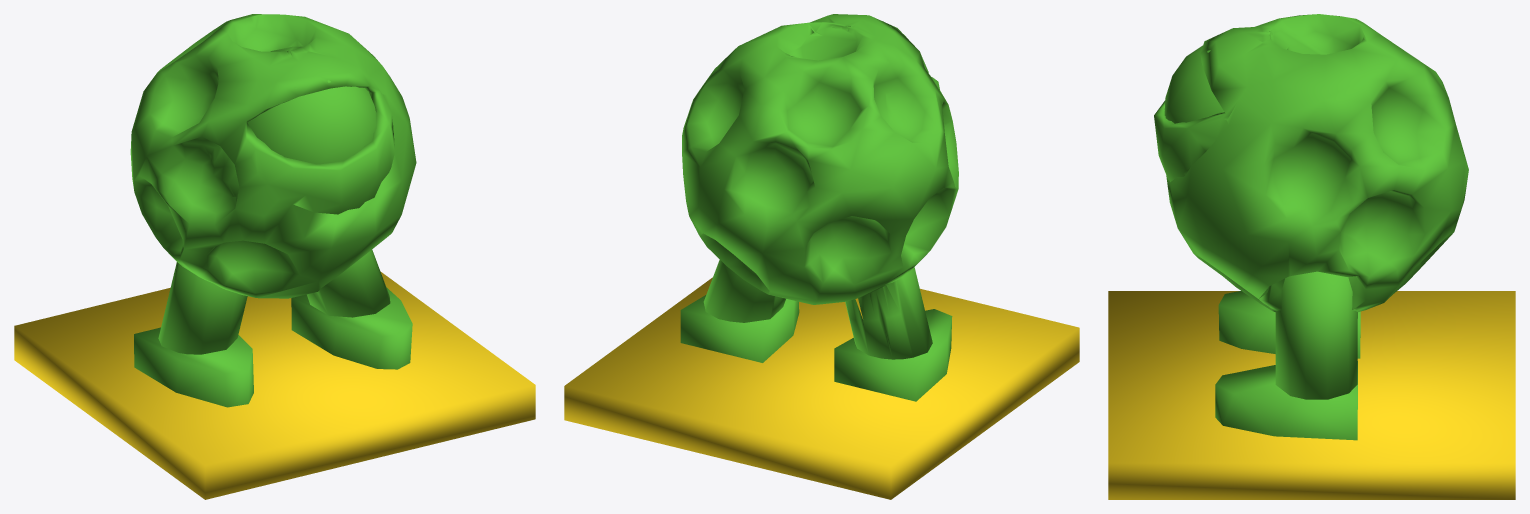
The model's file is adult_5.glb.
3 views of the same model, side by side, from view 1: azimuth 30°, elevation 25°; view 2: azimuth 150°, elevation 25°; view 3: azimuth 270°, elevation 25° (orthographic). The views are drawn at different scales.
Parts seen in each view (by area): view 1: figura, basetta; view 2: figura, basetta; view 3: figura, basetta.
Boxes of the visible parts, x1,y1,x2,y2 form: figura: [130, 14, 416, 407]; basetta: [14, 271, 535, 499]; figura: [680, 14, 958, 401]; basetta: [564, 277, 1079, 499]; figura: [1154, 14, 1468, 440]; basetta: [1108, 291, 1515, 499].
Bounding box in the file's own units: 0.02 × 0.0206 × 0.02.
